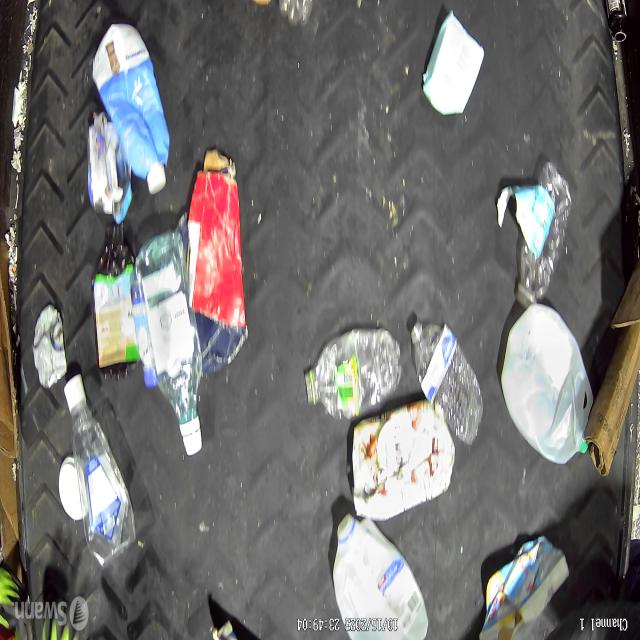can: (32, 303, 67, 391)
milk_jug: (501, 303, 593, 469), (331, 511, 429, 638)
non_white_jug: (92, 22, 171, 191)
plastic_bottle: (134, 231, 202, 456), (64, 373, 136, 571), (408, 319, 484, 444), (306, 326, 403, 419), (517, 160, 572, 310)
